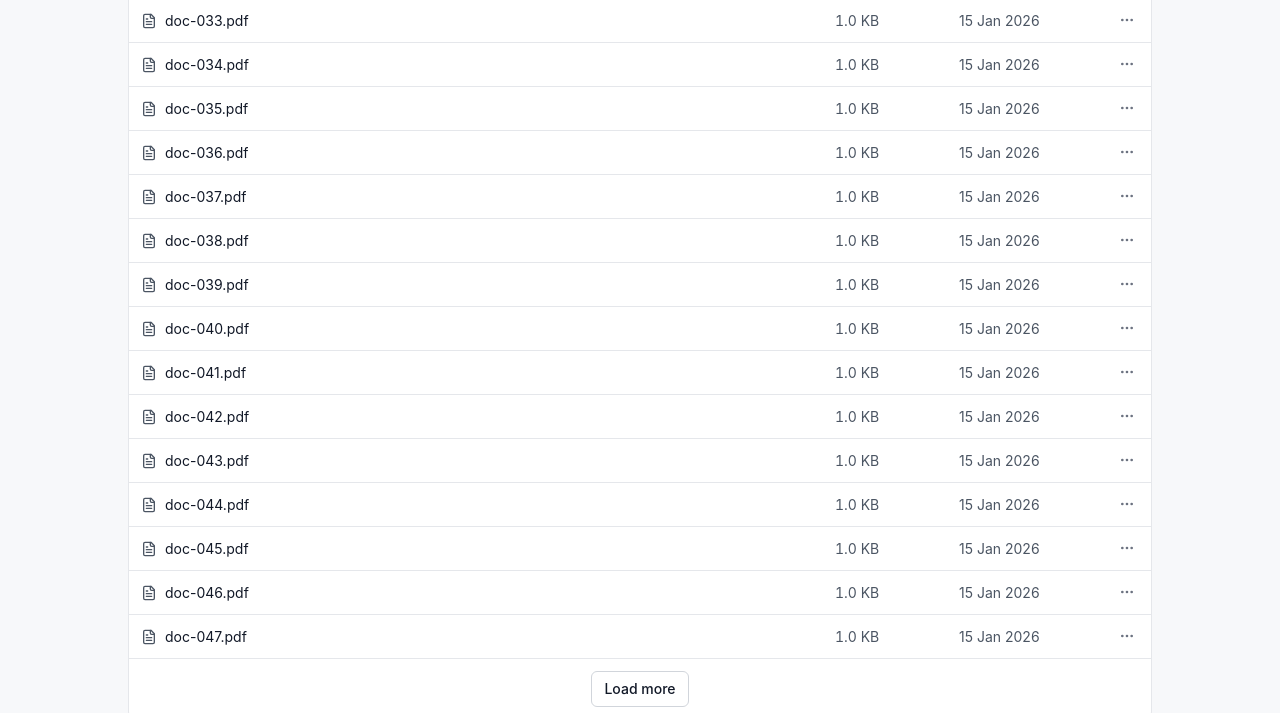
Test case: FolderPage pagination › fetches page two and stops when nextCursor is null
The image size is (1280, 713).
(page scrolled)
Click the button "Load more". click: (640, 689)
box: [591,671,688,707]
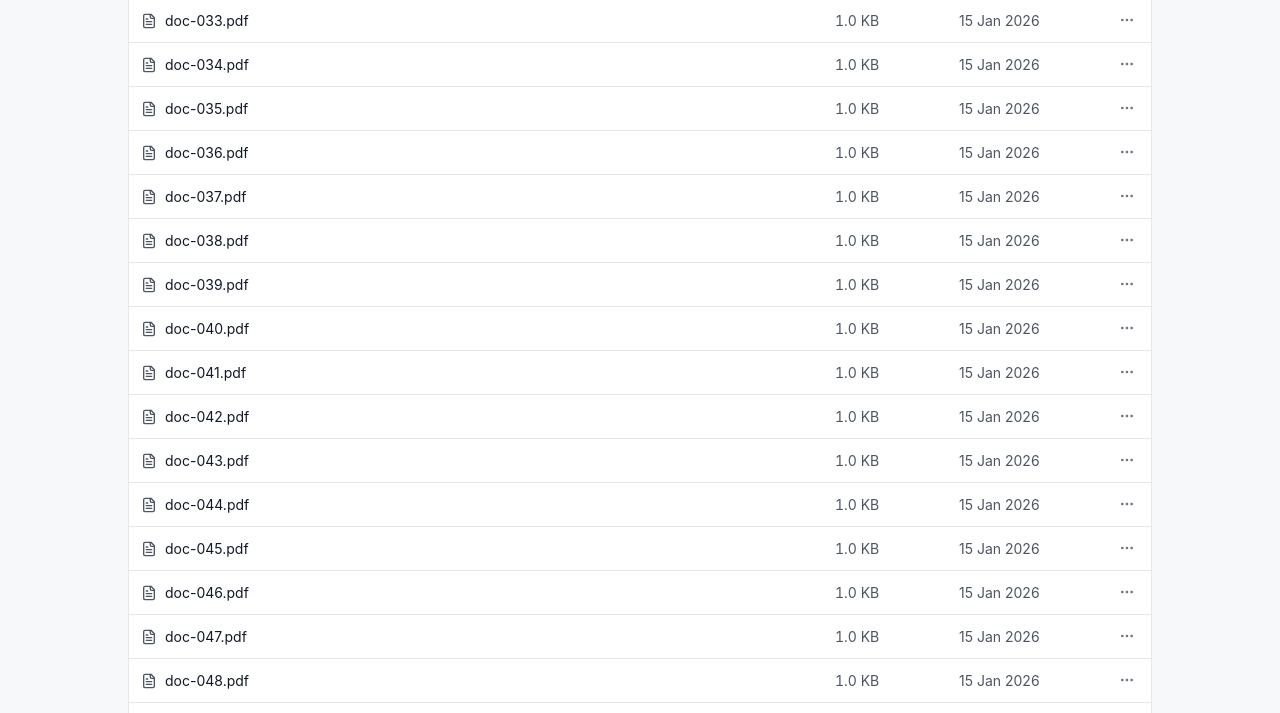
Check: the button "Load more" is gone
